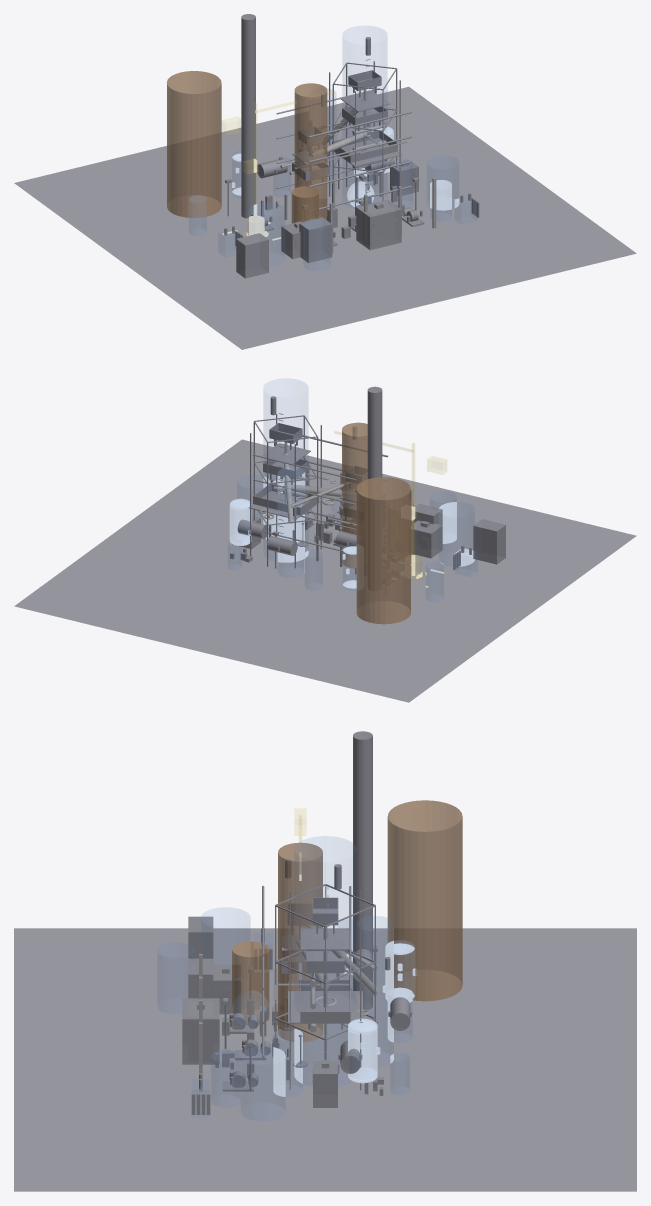
Rendered from chem plant.glb.
3 views of the same model, one above another, from view 1: azimuth 30°, elevation 25°; view 2: azimuth 150°, elevation 25°; view 3: azimuth 270°, elevation 25° (orthographic). The views are drawn at different scales.
Parts seen in each view (by area): view 1: Industrial_Ground, Cooling_Tower, Main_Tower, Secondary_Tower, Chimney_Stack, Main_Control_Room_Structure, Large_Storage_Tank_1, Medium_Storage_Tank_2, Equipment_Building_1, Equipment_Building_0, Storage_Tank_1, Medium_Storage_Tank_1 (+7 smaller); view 2: Industrial_Ground, Cooling_Tower, Main_Tower, Chimney_Stack, Secondary_Tower, Medium_Tower, Large_Storage_Tank_1, Equipment_Building_0, Secondary_Control_Room_Structure, Medium_Storage_Tank_1, Process_Vessel_1, Process_Tank_1 (+5 smaller); view 3: Industrial_Ground, Cooling_Tower, Main_Tower, Secondary_Tower, Chimney_Stack, Medium_Tower, Medium_Storage_Tank_2, Storage_Tank_1, Large_Storage_Tank_1, Medium_Storage_Tank_1, Main_Control_Room_Structure, Storage_Tank_2 (+13 smaller).
Part boxes in pixels (left/top/right/bottom): Industrial_Ground: left=14, top=86, right=636, bottom=349; Cooling_Tower: left=167, top=71, right=221, bottom=217; Main_Tower: left=343, top=26, right=386, bottom=208; Secondary_Tower: left=294, top=83, right=327, bottom=219; Chimney_Stack: left=241, top=14, right=255, bottom=218; Main_Control_Room_Structure: left=356, top=199, right=401, bottom=250; Large_Storage_Tank_1: left=249, top=203, right=284, bottom=266; Medium_Storage_Tank_2: left=427, top=156, right=458, bottom=209; Equipment_Building_1: left=299, top=217, right=332, bottom=262; Equipment_Building_0: left=236, top=233, right=268, bottom=278; Storage_Tank_1: left=291, top=186, right=318, bottom=223; Medium_Storage_Tank_1: left=304, top=219, right=329, bottom=270; Industrial_Ground: left=14, top=439, right=636, bottom=702; Cooling_Tower: left=356, top=477, right=410, bottom=624; Main_Tower: left=264, top=379, right=307, bottom=561; Chimney_Stack: left=367, top=386, right=382, bottom=590; Secondary_Tower: left=342, top=422, right=367, bottom=568; Medium_Tower: left=278, top=468, right=304, bottom=577; Large_Storage_Tank_1: left=439, top=502, right=474, bottom=565; Equipment_Building_0: left=473, top=519, right=505, bottom=564; Secondary_Control_Room_Structure: left=411, top=520, right=442, bottom=558; Medium_Storage_Tank_1: left=430, top=491, right=456, bottom=543; Process_Vessel_1: left=305, top=550, right=322, bottom=589; Process_Tank_1: left=426, top=562, right=443, bottom=601; Industrial_Ground: left=14, top=928, right=636, bottom=1191; Cooling_Tower: left=387, top=800, right=462, bottom=1001; Main_Tower: left=295, top=836, right=355, bottom=1086; Secondary_Tower: left=278, top=842, right=322, bottom=1042; Chimney_Stack: left=353, top=731, right=372, bottom=1010; Medium_Tower: left=357, top=916, right=393, bottom=1066; Medium_Storage_Tank_2: left=241, top=1046, right=284, bottom=1120; Storage_Tank_1: left=232, top=941, right=269, bottom=1024; Large_Storage_Tank_1: left=201, top=908, right=249, bottom=963; Medium_Storage_Tank_1: left=158, top=943, right=193, bottom=1013; Main_Control_Room_Structure: left=182, top=998, right=219, bottom=1064; Storage_Tank_2: left=274, top=1028, right=302, bottom=1096.
Size of the model in its own units: 50 by 25 by 50.
